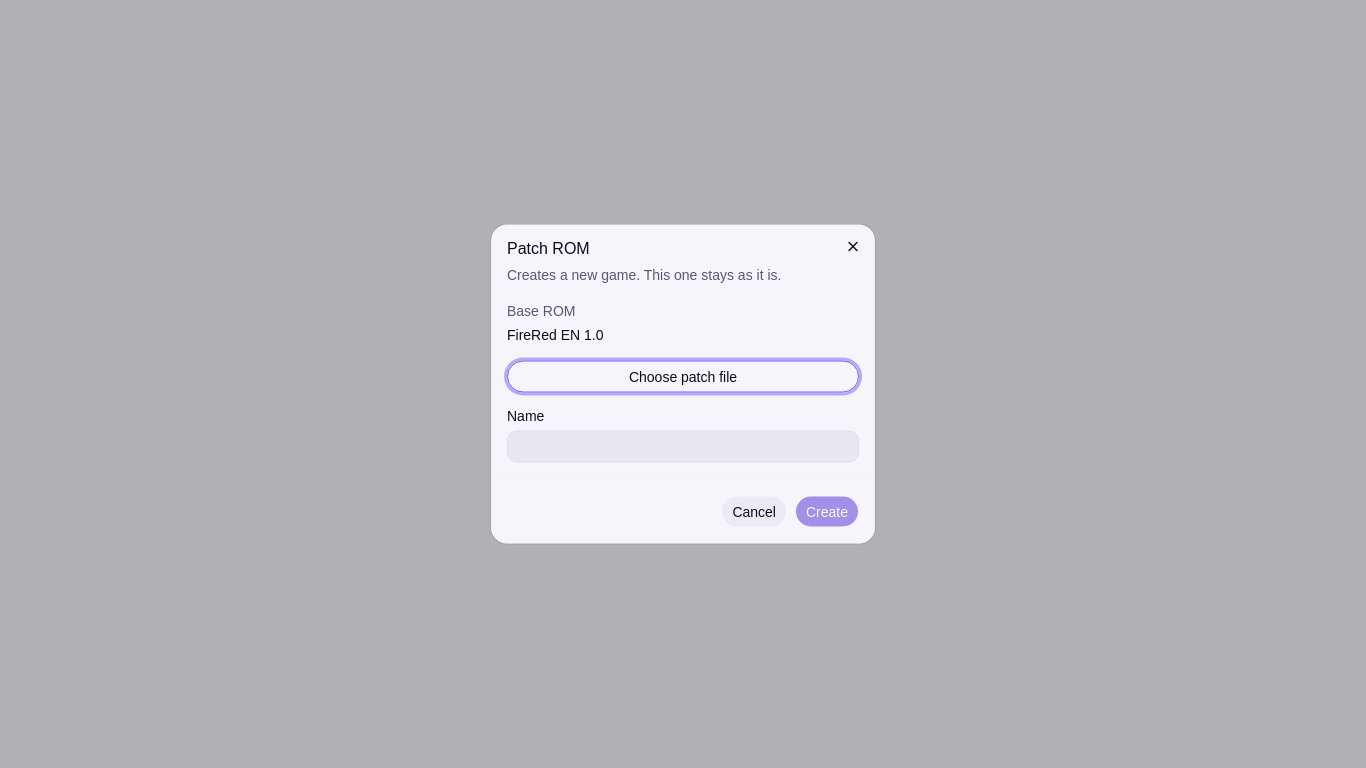
Test case: lets an IPS patch through and says it can't be checked
Click the button "Choose patch file" at point(683, 376), box [507, 360, 859, 392]
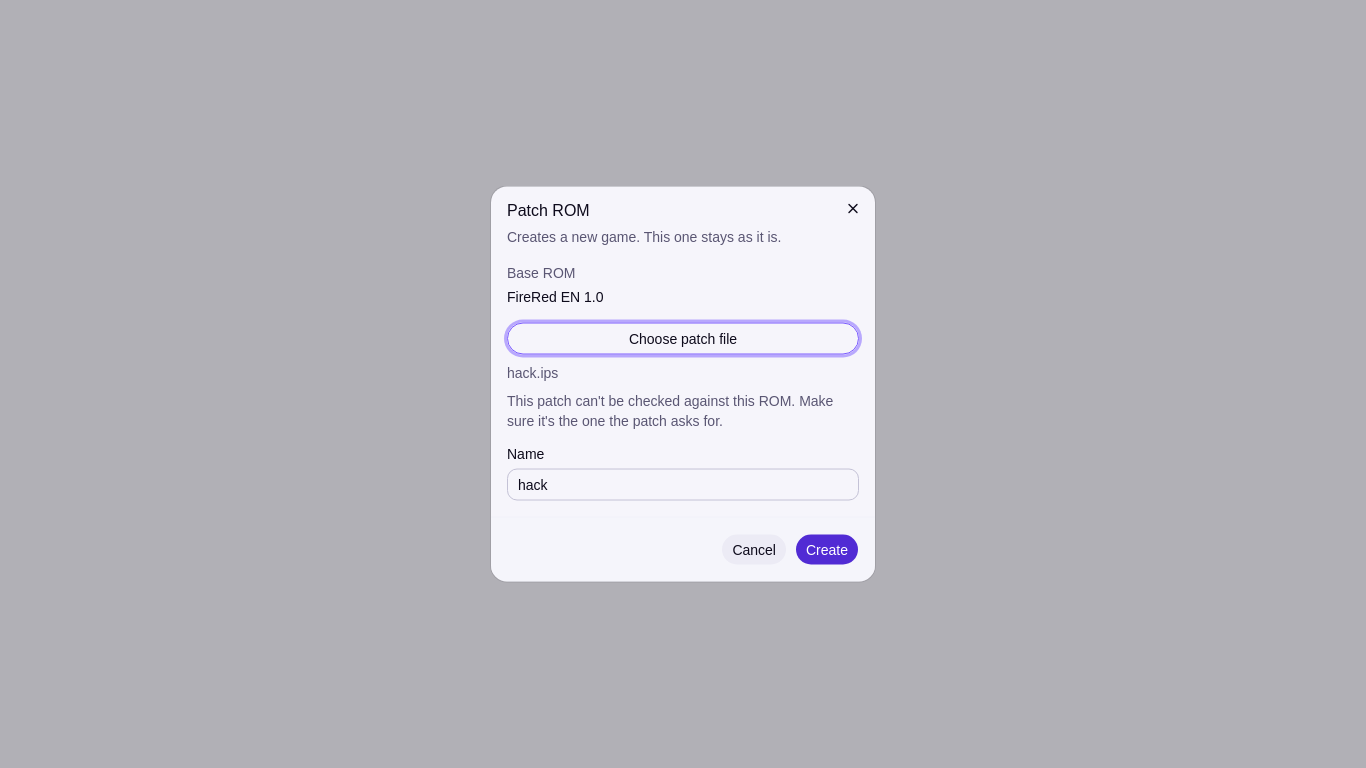
Expected: the text "can't be checked" is shown, [507, 392, 833, 428]
Expected: the button "Create" is enabled, [795, 534, 859, 566]
